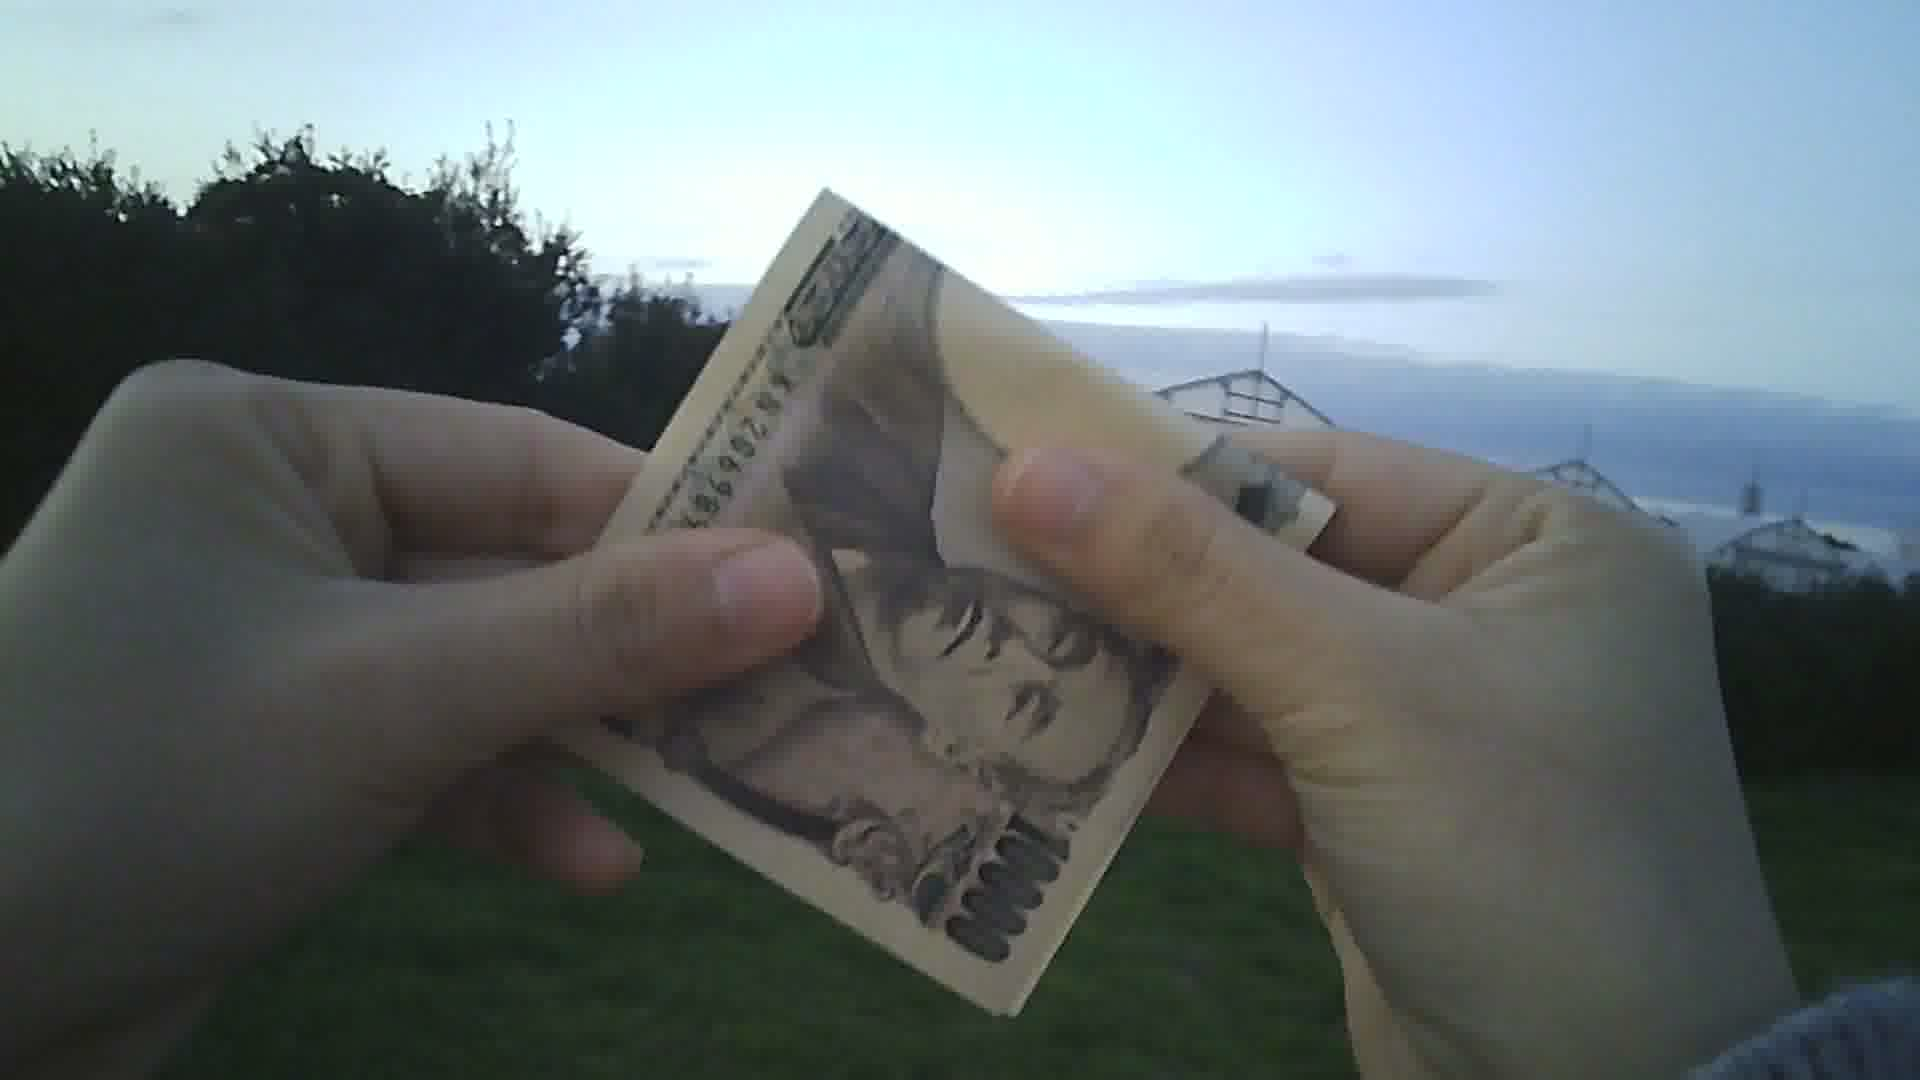10,000 Yen: (516, 187, 1311, 1051)
